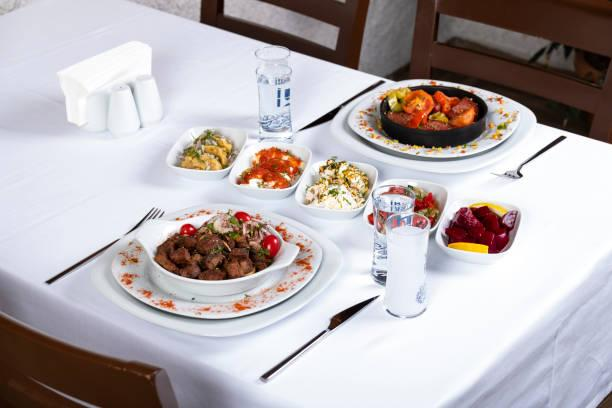Braised Crucian Carp: (139, 212, 299, 307), (371, 80, 502, 153)
